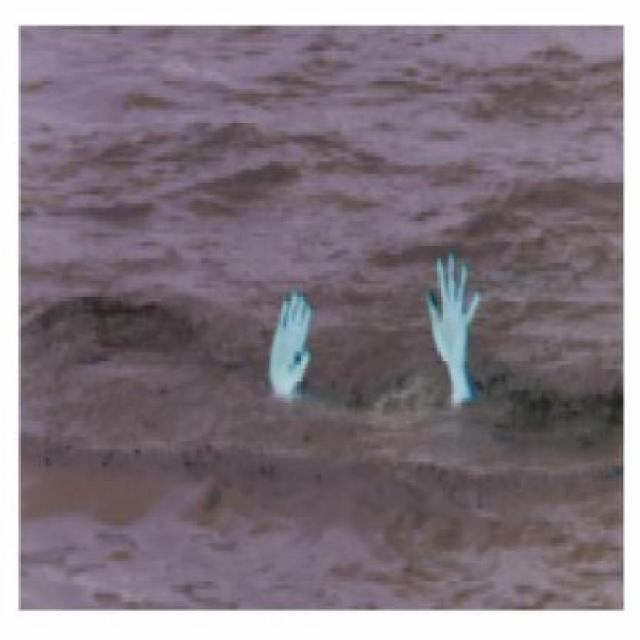drowning: (277, 251, 478, 411)
